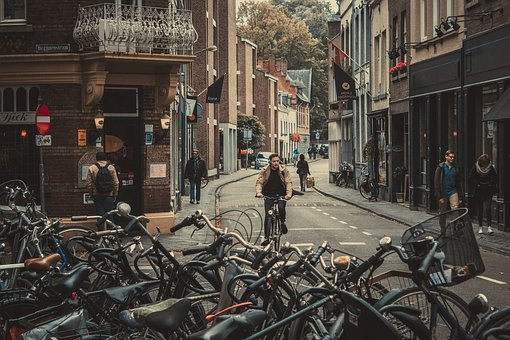bikerider: (252, 153, 295, 253)
